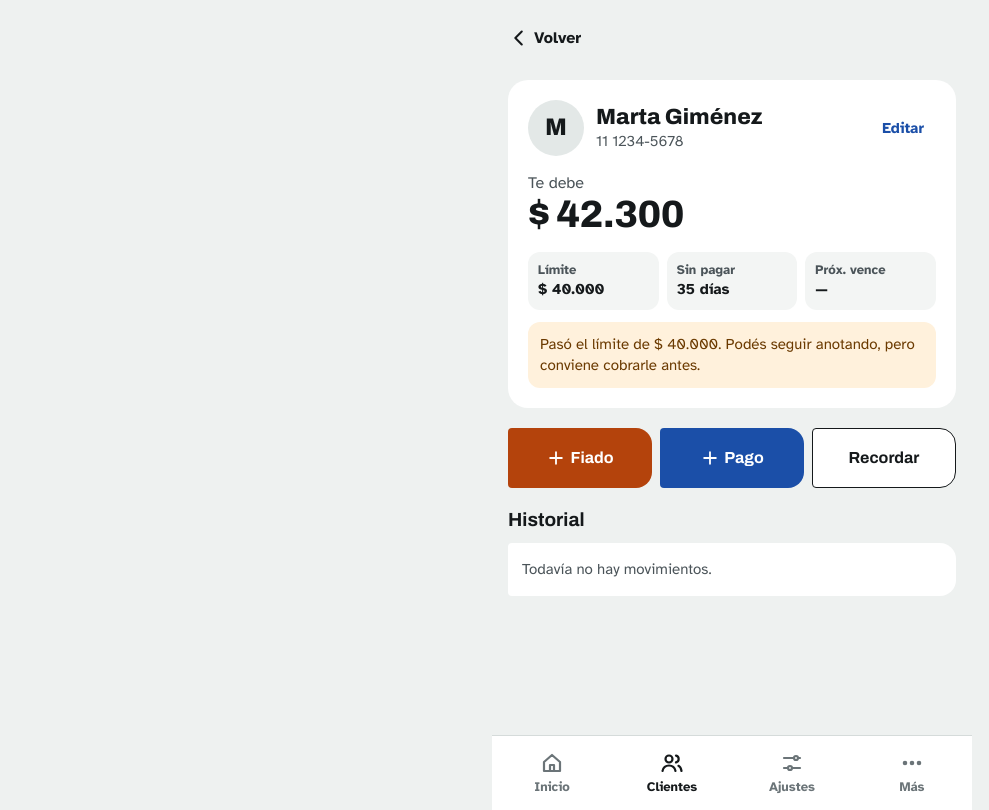
Scenario: Ficha › volver sin historial va a la lista de clientes
Expected: the text "Todavía no hay movimientos." is shown, [522, 560, 712, 578]
Click the button "Volver".
click(545, 38)  # box [500, 16, 589, 60]
(page scrolled)
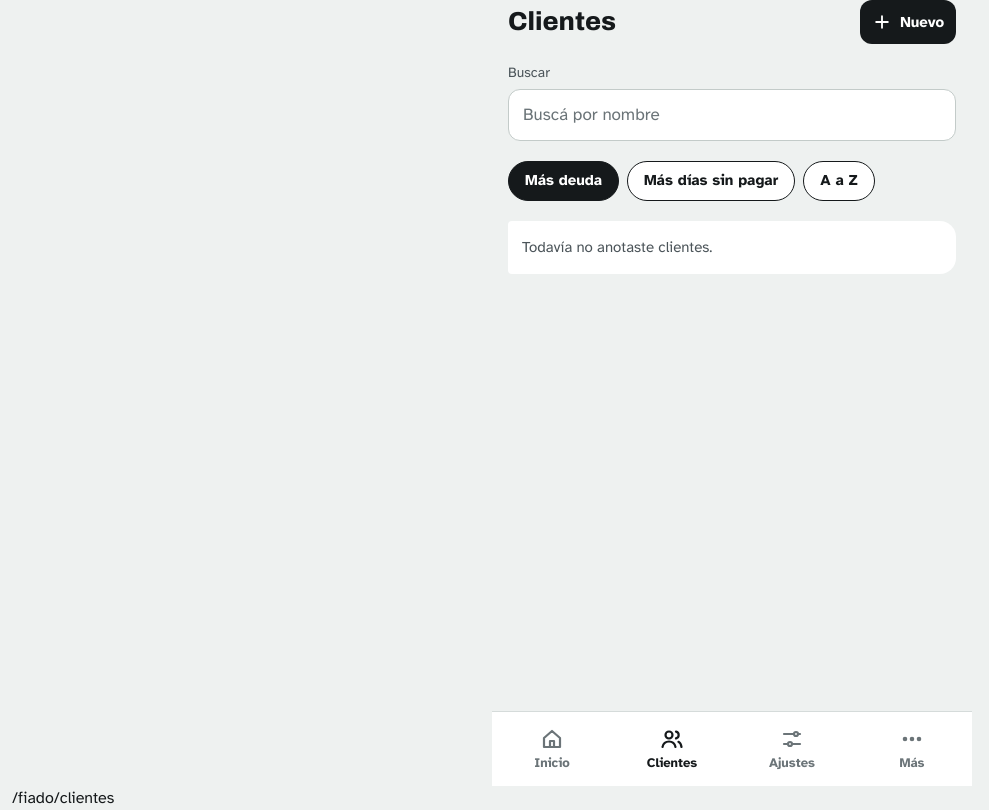
Now the text with test id "donde" reads "/fiado/clientes", box [12, 788, 114, 808]
